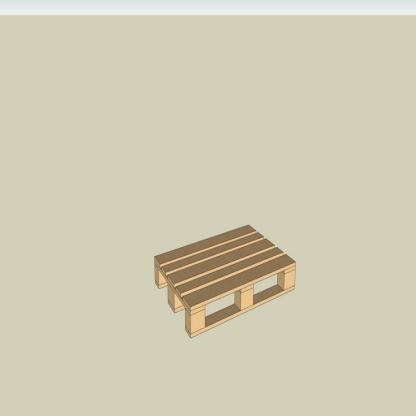BoxFace: (152, 218, 299, 346)
